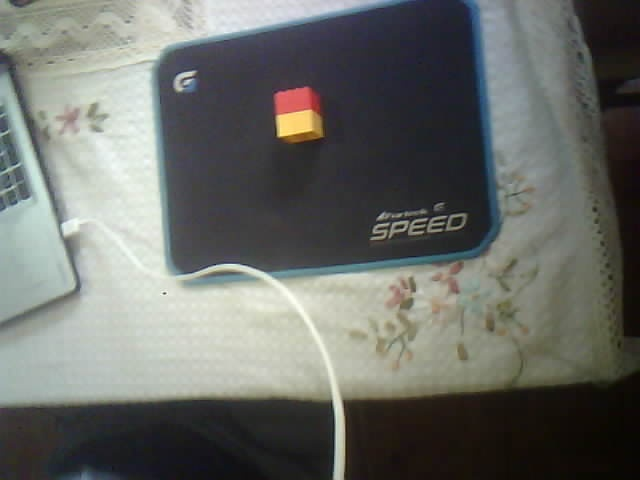lego: (272, 85, 326, 146)
